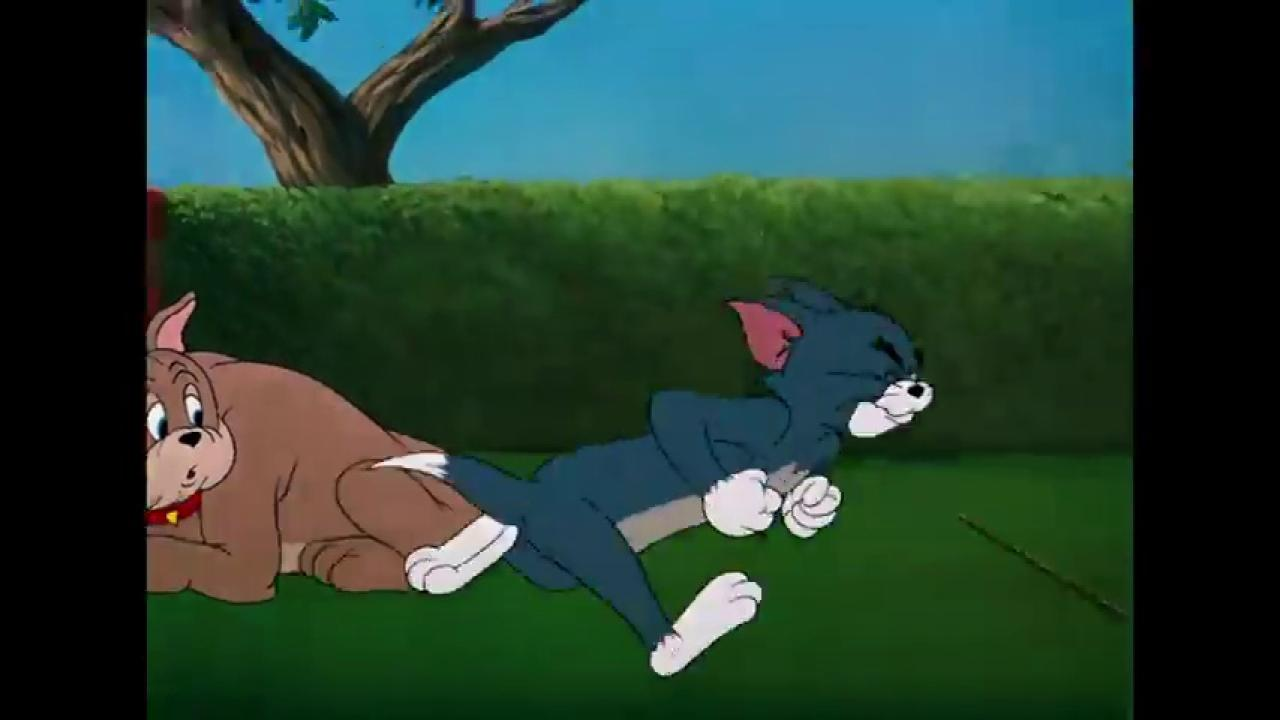Tom: (368, 272, 936, 680)
